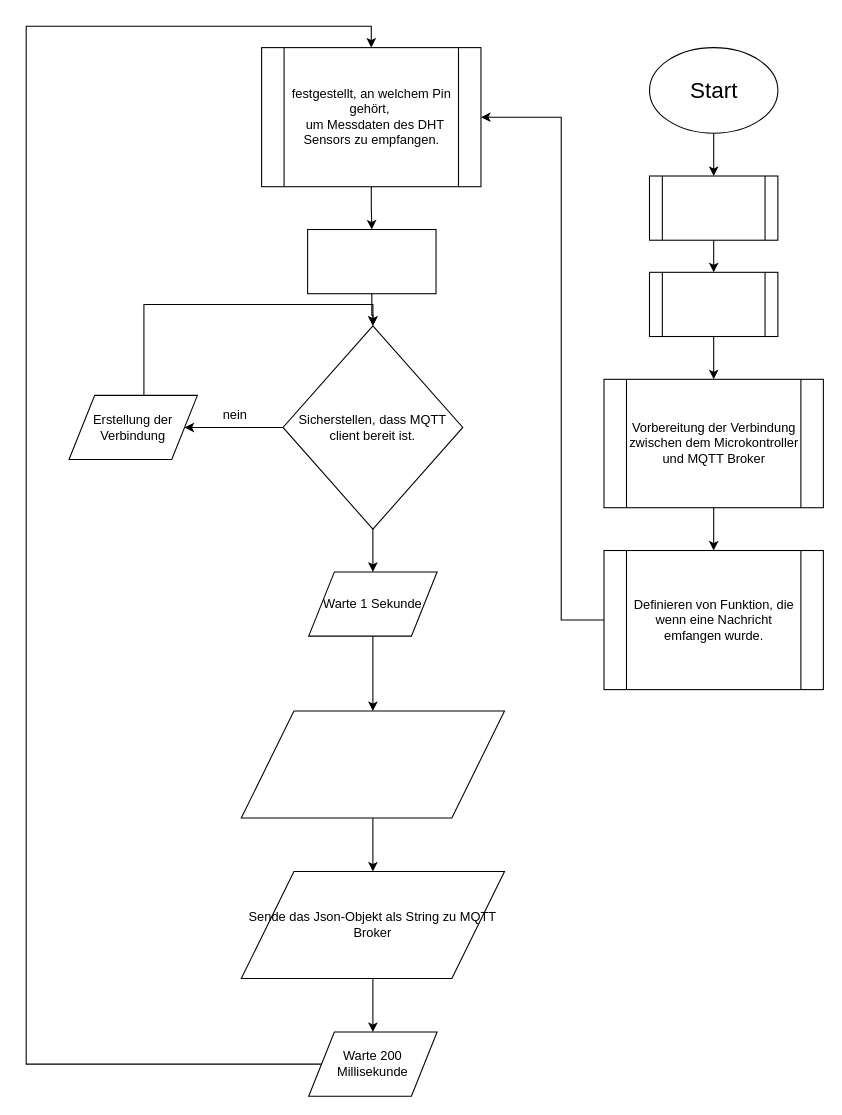
This 842x1115 diagram has some shape labels left out. The shapes that lost their labels are listed below. From the top down, each one's centre as x and y in pixels, then its label:
At [713,207]: "Die Ausgabe Modus wurde der LED zugeordnet".
At [371,261]: "Die gemessenen Werte des DHT Sensor in Variabeln setzen.".
At [713,304]: "Vorbereitung des seriellen Ports".
At [372,764]: "erstelle Json-Object mit Temperatur, und Luftfeuchtigkeit".
